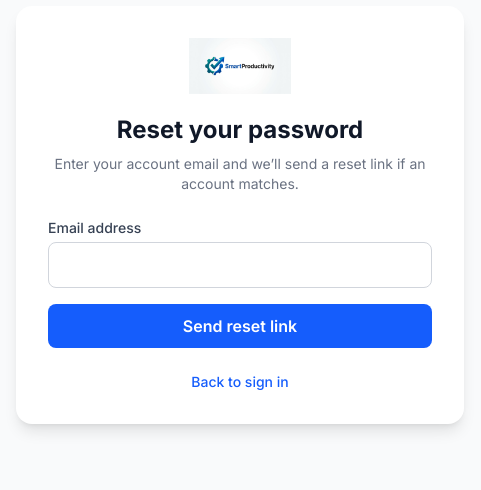
password recovery › shows the generic reset response after submitting an email
This screenshot has width=481, height=490.
Type "student@example.invalid" into the field labelled "Email address". click: (240, 265)
box: [48, 242, 432, 288]
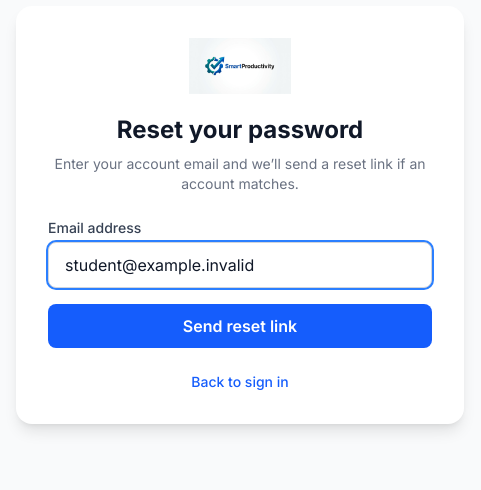
Click the button "Send reset link". click: click(240, 326)
box: [48, 304, 432, 348]
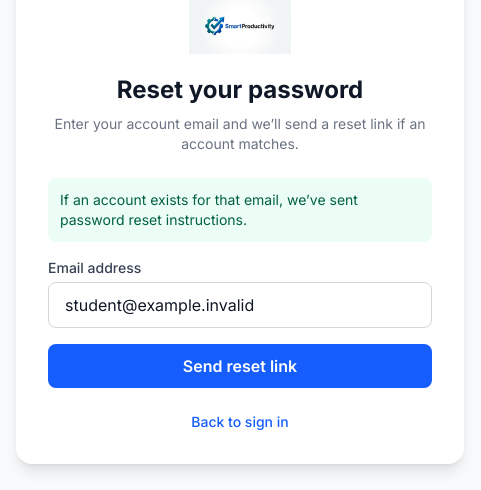
Check: the message shows "If an account exists", box [60, 191, 358, 228]
